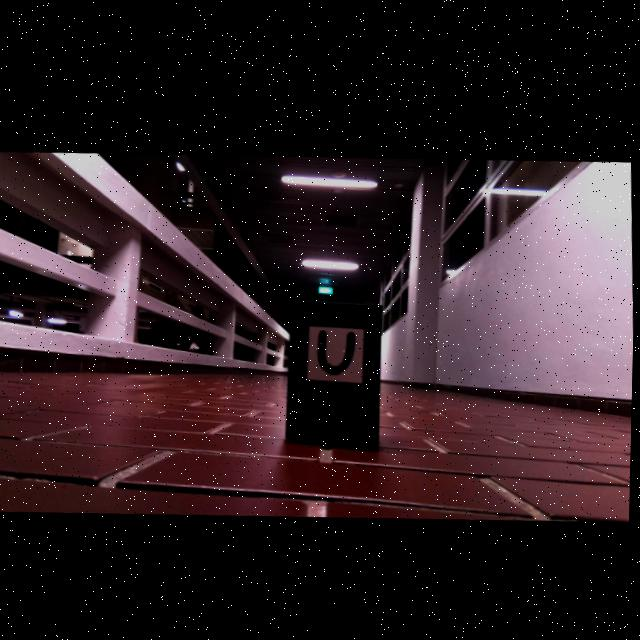U: (318, 327, 355, 369)
